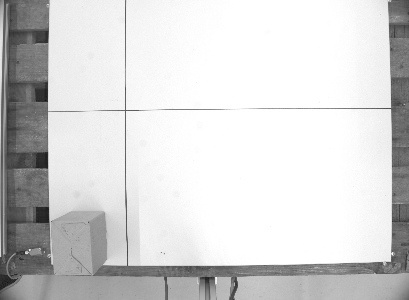b5: (50, 208, 108, 277)
